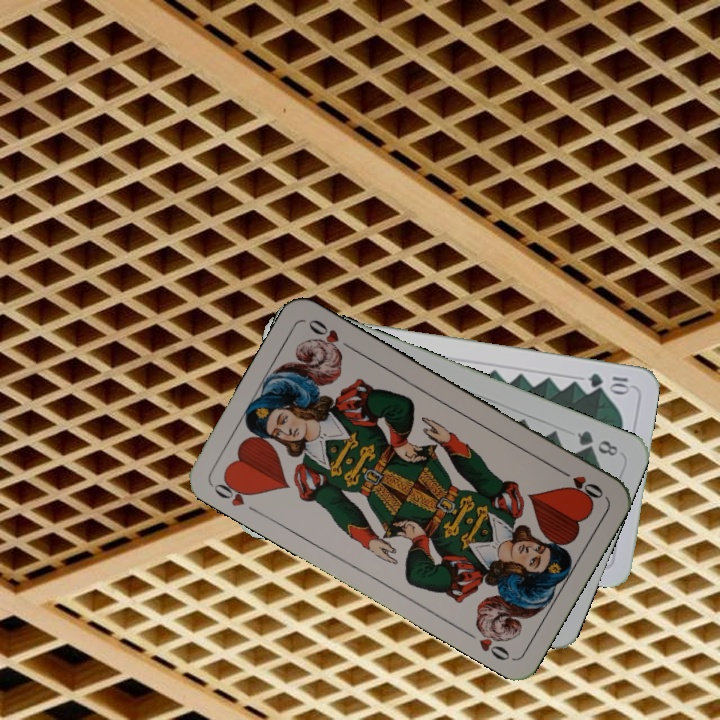G10: (584, 369, 634, 394)
G8: (573, 426, 621, 459)
HO: (209, 472, 262, 517), (553, 464, 607, 503)
